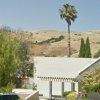Palm tree: (55, 1, 86, 57)
